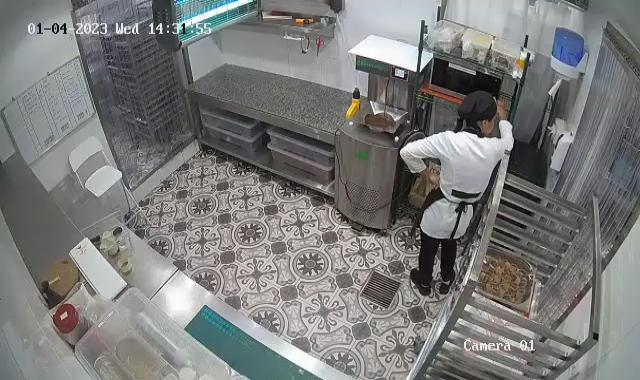no_hairnet: (455, 88, 498, 132)
